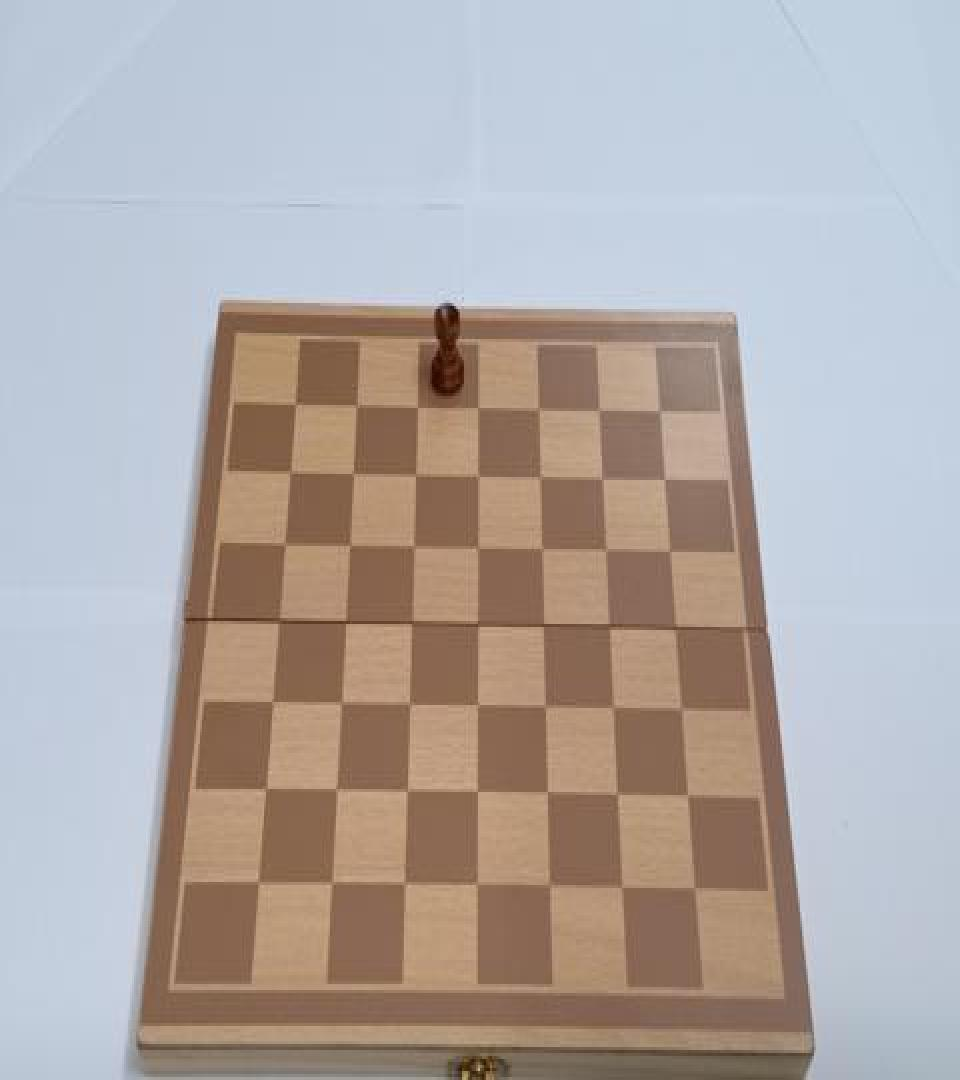xcorner: (282, 460, 300, 488), (410, 394, 428, 422), (471, 694, 489, 722), (595, 466, 613, 494), (651, 400, 669, 428), (277, 532, 295, 559), (271, 610, 289, 637), (259, 778, 277, 805), (349, 393, 367, 420), (345, 462, 363, 489), (342, 534, 360, 561), (338, 610, 356, 637), (334, 693, 352, 720), (330, 780, 348, 807), (326, 873, 344, 900), (405, 612, 423, 639), (403, 693, 421, 720), (401, 780, 419, 807), (399, 873, 417, 900), (470, 396, 488, 423), (471, 465, 489, 492), (471, 537, 489, 564), (472, 873, 490, 900), (531, 397, 549, 424), (533, 465, 551, 492), (535, 538, 553, 565), (537, 615, 555, 642), (539, 696, 557, 723), (544, 874, 562, 901), (591, 399, 609, 426), (599, 538, 617, 565), (603, 615, 621, 642), (607, 696, 625, 723), (612, 783, 630, 810), (616, 874, 634, 901), (657, 468, 675, 495), (662, 540, 680, 567), (668, 617, 686, 644), (681, 783, 699, 810), (688, 874, 706, 901), (287, 392, 305, 418), (265, 692, 283, 718), (252, 872, 270, 898), (408, 464, 426, 490), (406, 536, 424, 562), (471, 614, 489, 640), (472, 782, 490, 808), (542, 782, 560, 808), (674, 698, 692, 724)
